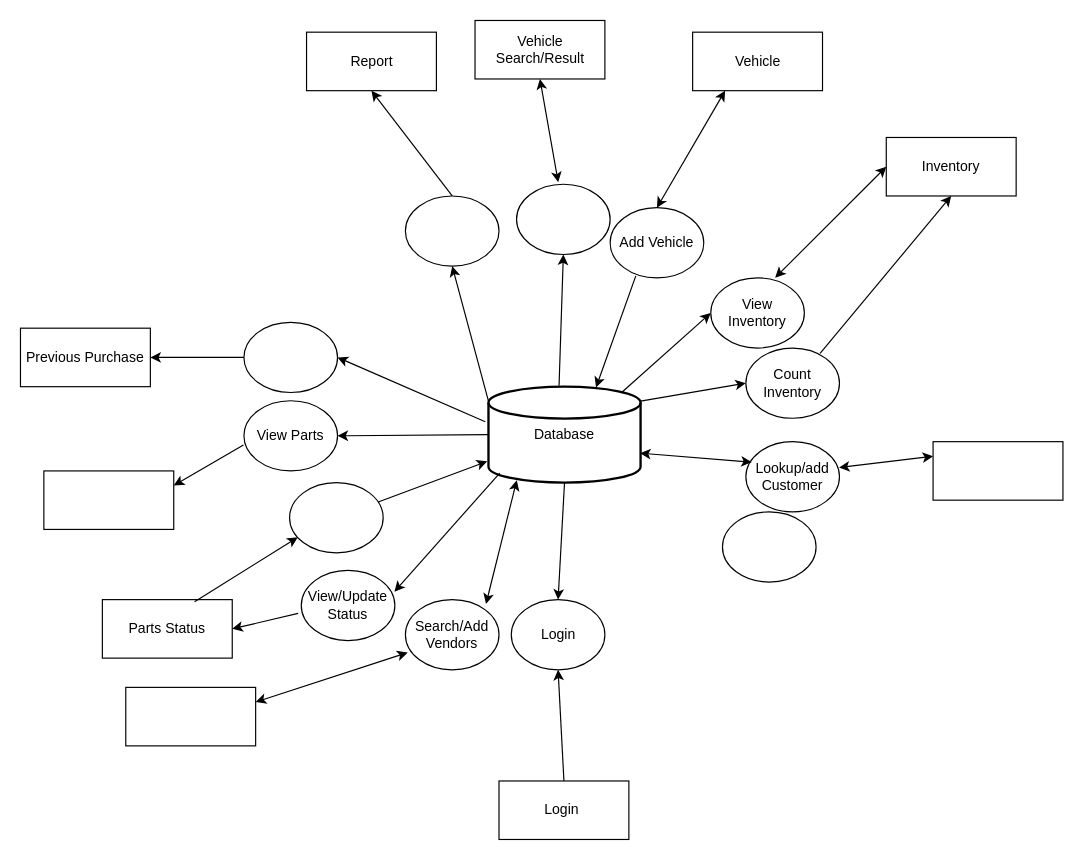
The diagram is 1083 pixels wide and 860 high, and some of its shapes have lost their labels. The box of each missing label's shape, as (x1, y1, x2, y2) in pixels:
Add Customer: (721, 511, 816, 582)
Add Status: (288, 481, 383, 553)
Customer: (932, 441, 1063, 500)
Parts: (43, 470, 174, 529)
Parts Order: (125, 686, 256, 746)
Vehicle Avail/Unavail: (243, 321, 338, 393)
View Report: (404, 195, 499, 266)
View Vehicle: (515, 183, 610, 254)
